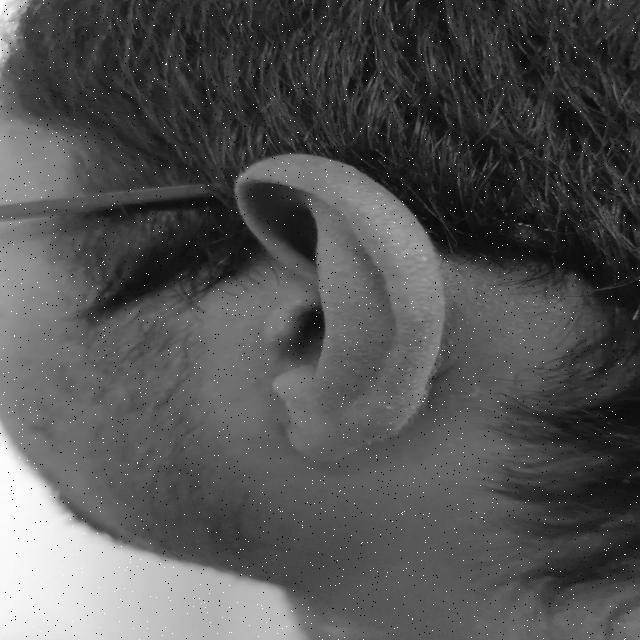ear: (237, 154, 444, 460)
